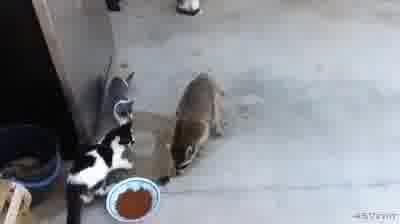raccoon: (168, 73, 229, 173)
